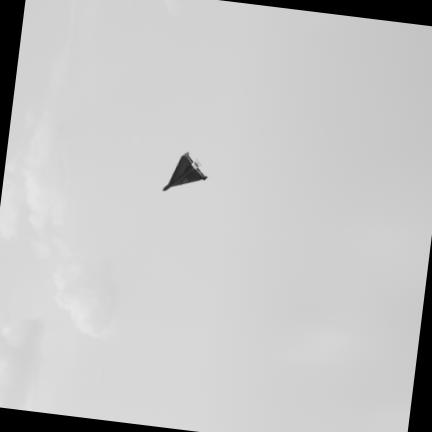Shahed: (163, 152, 206, 189)
